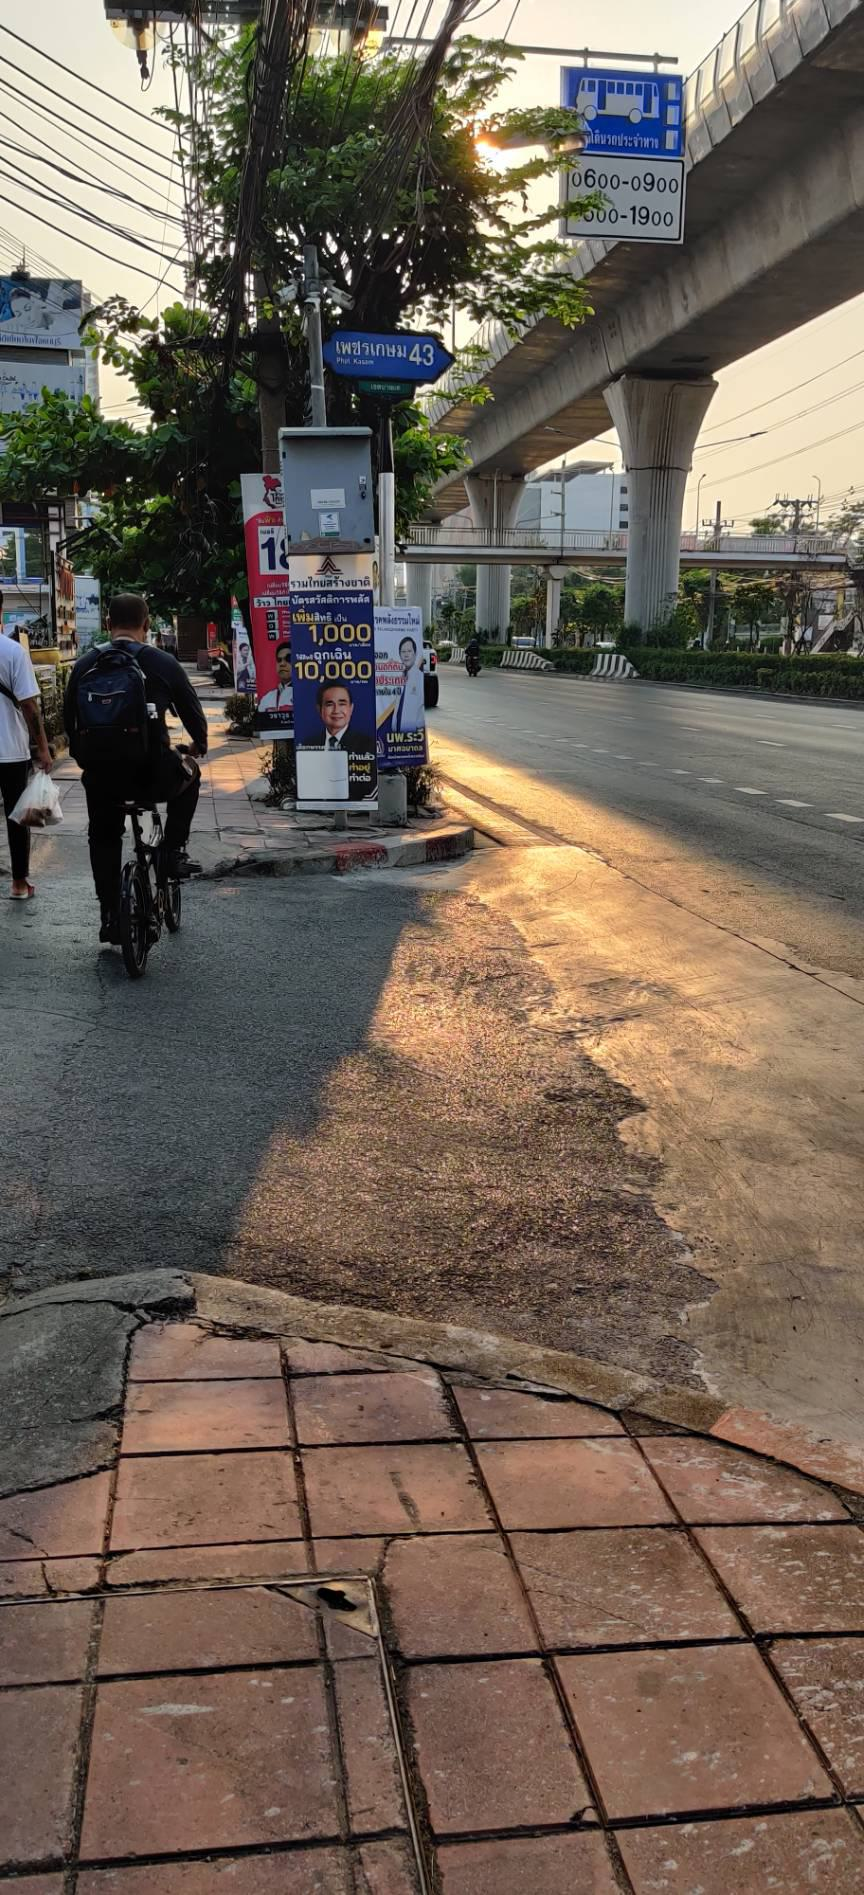Banner: (269, 578, 385, 821)
